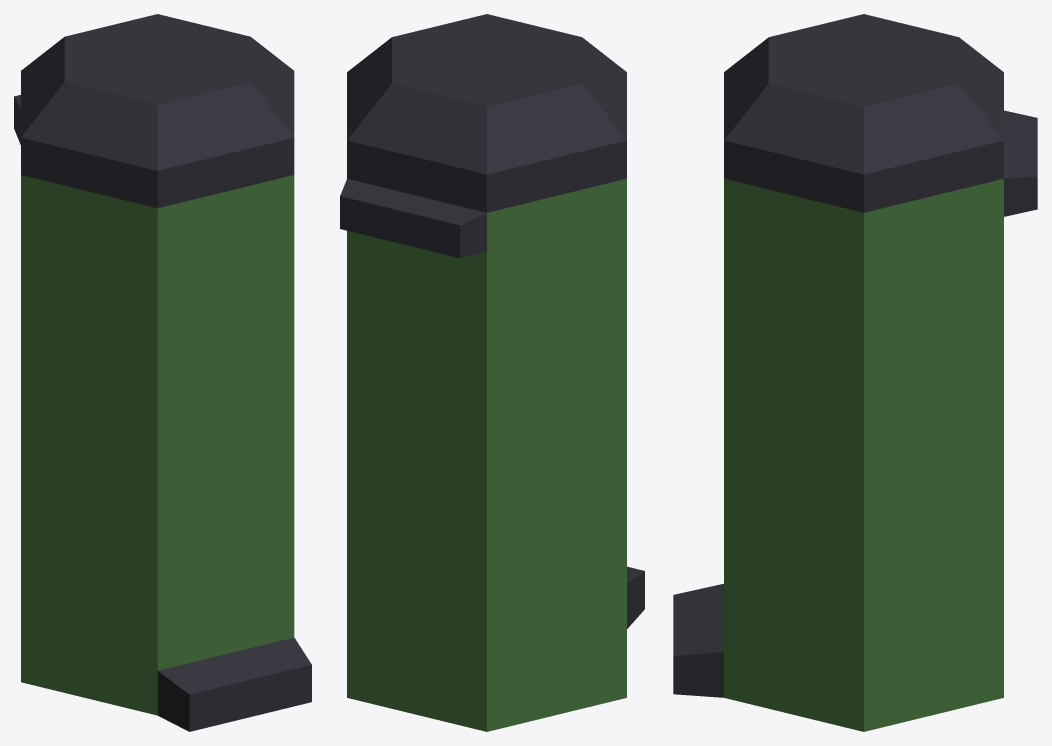
Rendered from bin_green.glb.
3 views of the same model, side by side, from view 1: azimuth 30°, elevation 25°; view 2: azimuth 150°, elevation 25°; view 3: azimuth 270°, elevation 25° (orthographic). The views are drawn at different scales.
Visible parts, largest first — view 1: bin_green; view 2: bin_green; view 3: bin_green.
Part boxes in pixels (x1,y1,x2,y2): bin_green: [14, 14, 311, 731]; bin_green: [340, 14, 644, 731]; bin_green: [673, 14, 1037, 731].
Size of the model in its own units: 0.2077 by 0.4279 by 0.2341.
